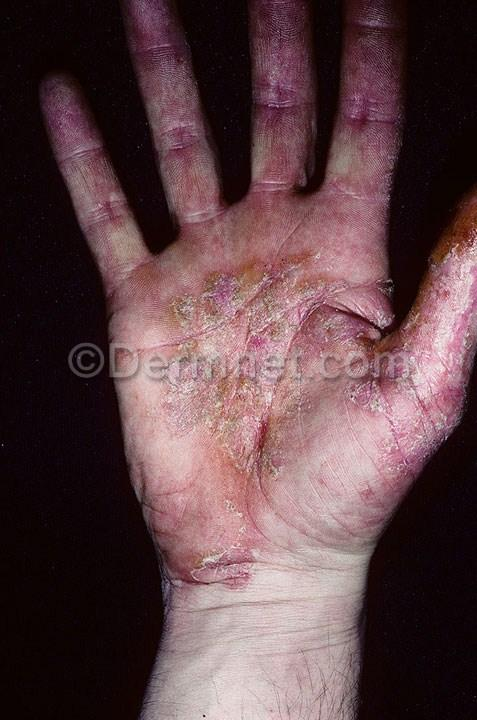Eczema: (104, 40, 238, 219), (269, 27, 410, 177), (182, 242, 351, 349), (231, 414, 337, 514)
